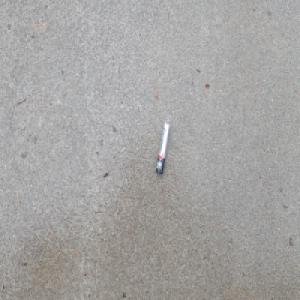Battery: (155, 122, 169, 176)
